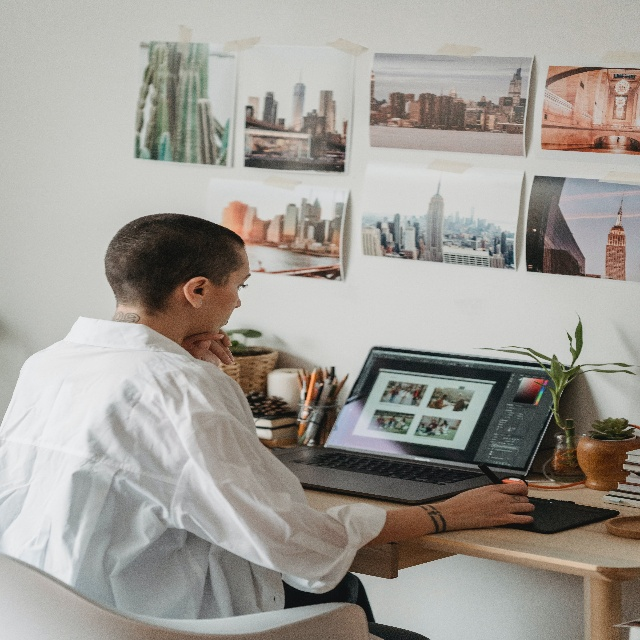Sin_guantes: (443, 483, 535, 532), (181, 330, 235, 368)
